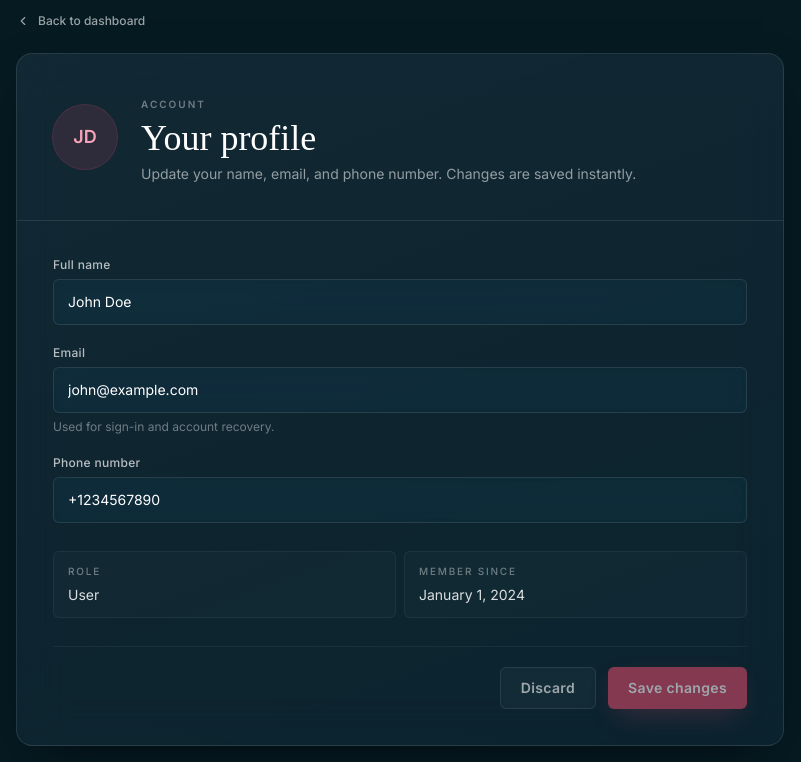
it: ProfilePage › discard button resets form to original values
The width and height of the screenshot is (801, 762).
Replace the text in the field labelled "Full name" with "Jane Doe": [400, 302] box [54,280,746,324]
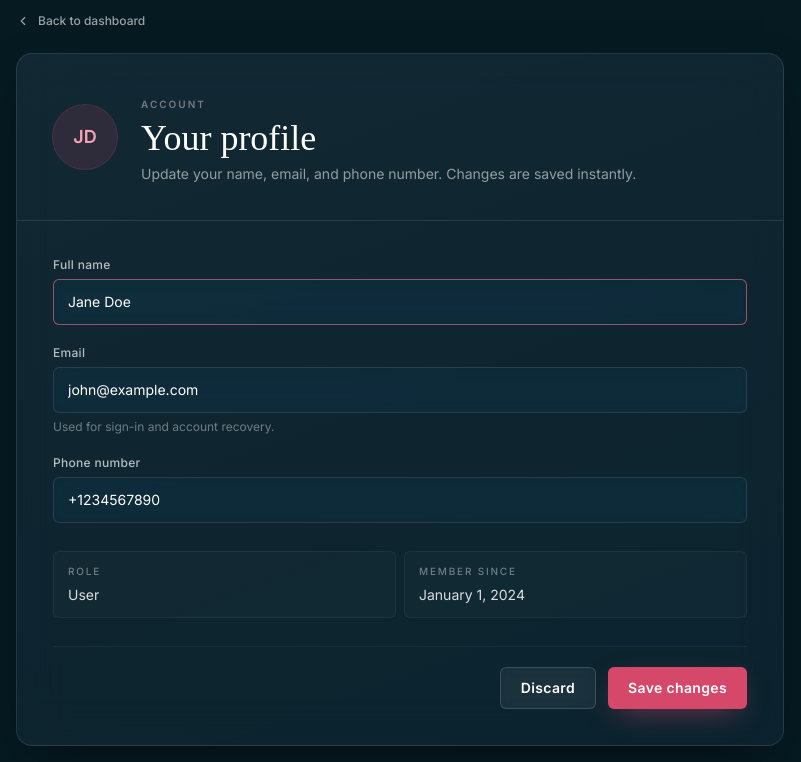
Click the button "Discard": [548, 688] box [500,667,596,709]
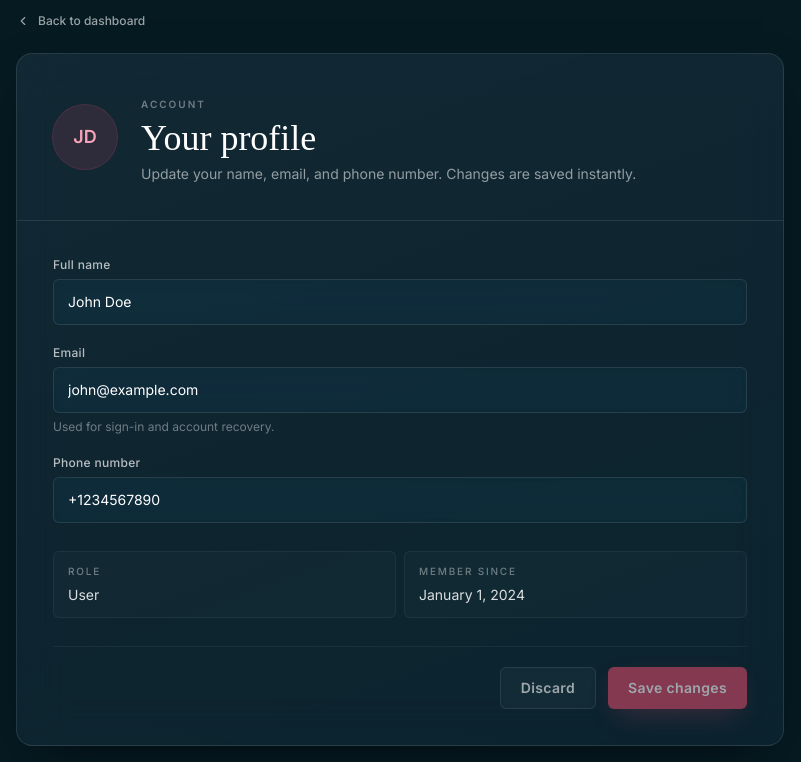
Expected: the field labelled "Full name" holds "John Doe", [54,280,746,324]
Expected: the button "Save changes" is disabled, [608,667,747,709]
